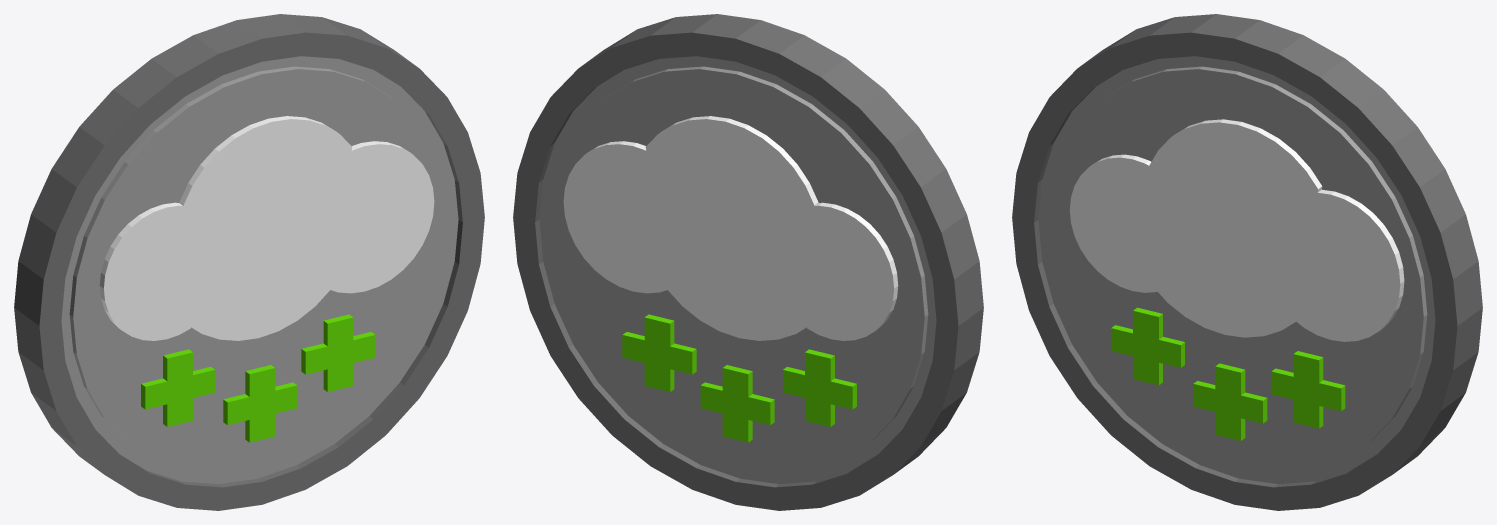
File: PowerUp_Heal.fbx
3 renders of one model, left to right at view 1: azimuth 30°, elevation 25°; view 2: azimuth 150°, elevation 25°; view 3: azimuth 330°, elevation 25°, orthographic.
Parts seen in each view (by area): view 1: Heal; view 2: Heal; view 3: Heal.
Part boxes in pixels (bbox=[...]): Heal: bbox=[14, 14, 484, 510]; Heal: bbox=[513, 14, 983, 510]; Heal: bbox=[1012, 14, 1482, 510].
Bounding box in the file's own units: 200 × 200 × 25.06.
